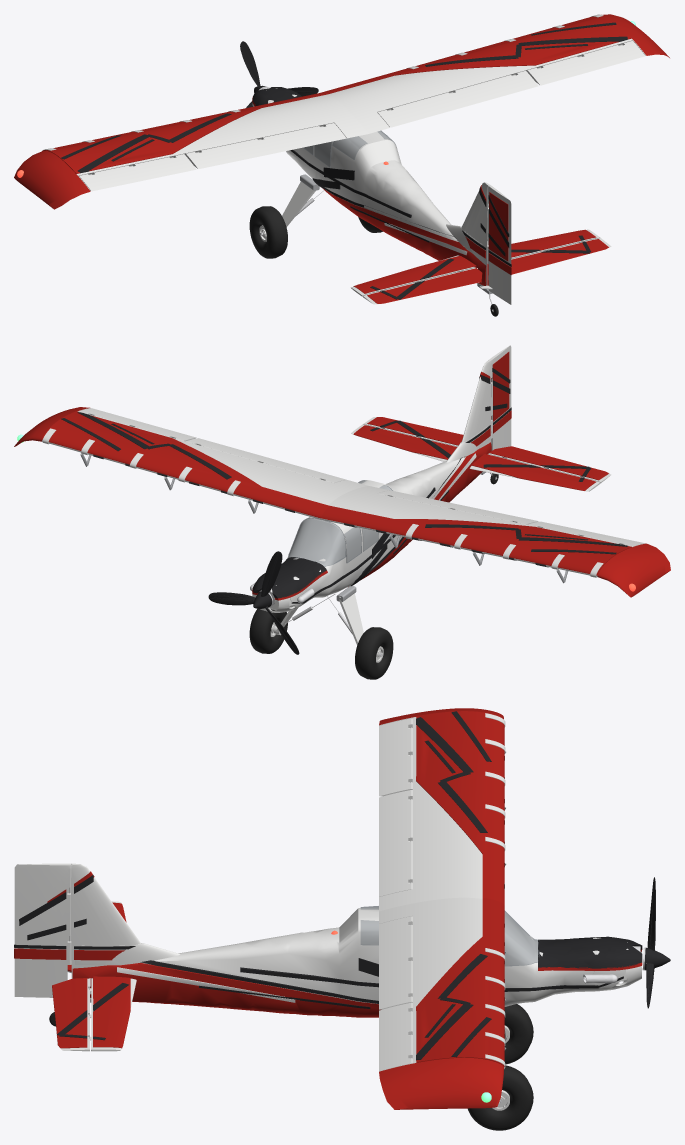
The model's file is aircraft.glb.
3 views of the same model, one above another, from view 1: azimuth 30°, elevation 25°; view 2: azimuth 150°, elevation 25°; view 3: azimuth 270°, elevation 25° (orthographic). The views are drawn at different scales.
Parts seen in each view (by area): view 1: airframe, elevator, flap_right, flap_left, rudder, aileron_right, aileron_left, wheel_left, propeller_rotor, gear_left_leg; view 2: airframe, elevator, rudder, wheel_left, propeller_rotor, wheel_right, flap_right, flap_left, aileron_right, aileron_left, gear_left_leg; view 3: airframe, rudder, flap_left, flap_right, elevator, aileron_left, wheel_right, aileron_right, wheel_left, propeller_rotor.
Part boxes in pixels (x1,y1,x2,y2): airframe: (14,14,669,296); elevator: (363,238,611,304); flap_right: (377,70,538,127); flap_left: (184,123,346,169); rudder: (479,185,511,304); aileron_right: (526,40,645,85); aileron_left: (78,154,196,191); wheel_left: (249,206,287,258); propeller_rotor: (240,41,318,107); gear_left_leg: (282,181,315,226); airframe: (14,361,670,612); elevator: (363,417,611,483); rudder: (488,345,511,450); wheel_left: (355,627,393,679); propeller_rotor: (208,551,299,654); wheel_right: (249,608,287,653); flap_right: (186,438,346,482); flap_left: (378,490,538,524); aileron_right: (79,408,196,441); aileron_left: (527,521,645,546); gear_left_leg: (339,593,363,645); airframe: (69,708,642,1109); rudder: (14,863,71,997); flap_left: (379,790,412,896); flap_right: (379,916,412,1009); elevator: (52,965,91,1051); aileron_left: (379,718,412,796); wheel_right: (468,1065,533,1130); aileron_right: (379,1002,412,1071); wheel_left: (504,1004,533,1064); propeller_rotor: (632,877,670,1008).
Bounding box in the file's own units: 1.55 × 0.434 × 1.12.
